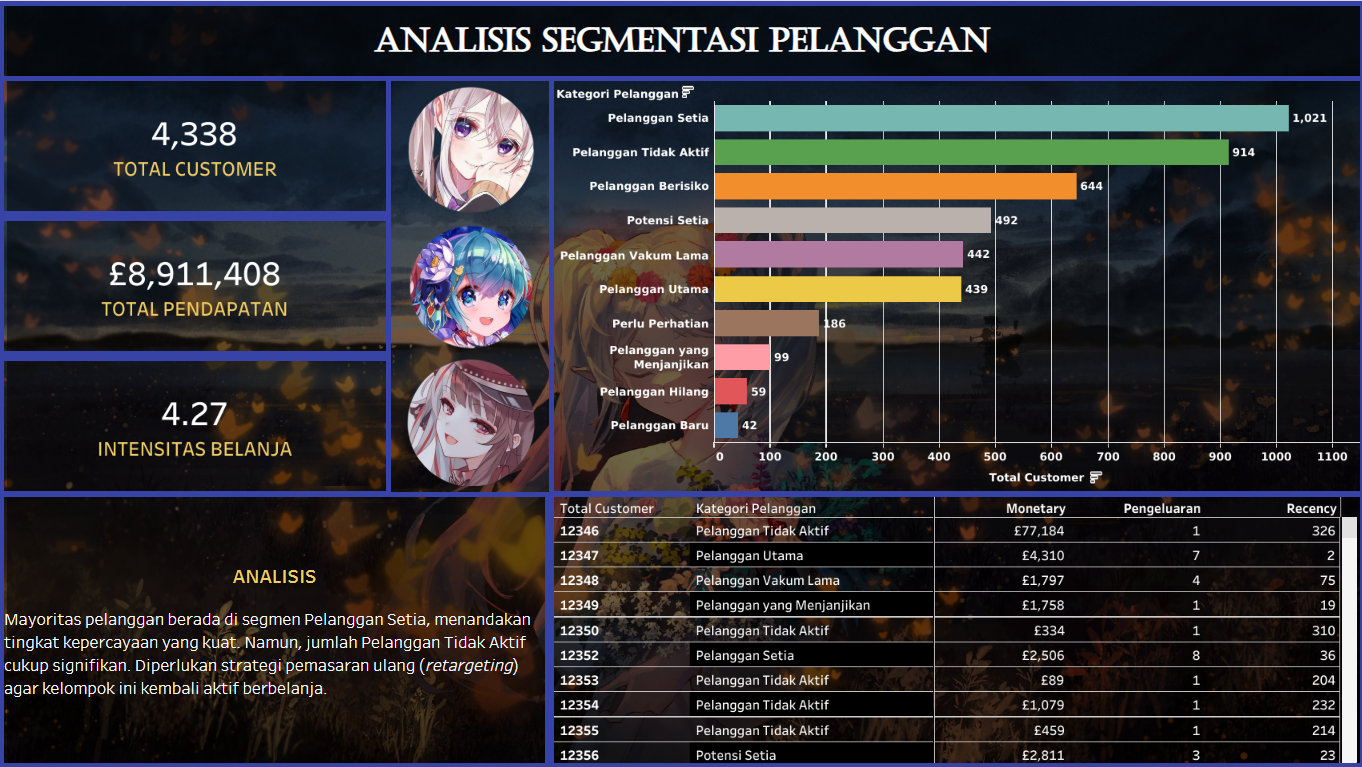

The page's visual inventory and layout, read from the dashboard file:
{"tool":"tableau","page":{"name":"Dashboard 1","canvas":[1366,768],"ordinal":0},"visuals":[{"type":"image","param":"Image/wp13887412-frieren-desktop-hd-4k-wallpapers.jpg","box":[0,0,1366,768]},{"type":"text","box":[0,0,1366,80]},{"type":"blank","box":[8,0,1358,765]},{"type":"title","box":[8,8,1350,62]},{"type":"worksheet","title":"Pelanggan","mark":"Automatic","box":[0,75,392,140]},{"type":"worksheet","title":"Penyebaran Segmen","mark":"Automatic","rows":["Nama_Segmen"],"cols":["CustomerID"],"box":[550,75,816,420]},{"type":"image","param":"Image/__-_̗̀Lunar_̖́-____ೃ_-removebg-preview.png","box":[403,85,138,127]},{"type":"worksheet","title":"Pendapatan","mark":"Automatic","box":[0,215,392,140]},{"type":"image","param":"Image/download-removebg-preview.png","box":[403,222,138,127]},{"type":"worksheet","title":"Rata-Rata Frekuensi","mark":"Automatic","box":[0,355,392,140]},{"type":"image","param":"Image/download__1_-removebg-preview.png","box":[403,358,138,127]},{"type":"text","box":[0,491,551,276]},{"type":"worksheet","title":"Detail Tabel","mark":"Automatic","rows":["CustomerID","Nama_Segmen"],"box":[550,491,816,276]}]}

Visuals, with their boxes in screenshot pixels (x1, y1, x2, y2), scaled from the page's 1366x768 canvas onto the 1362x767 screenshot:
image: [0,0,1361,766]
text: [0,0,1361,80]
blank: [8,0,1361,764]
title: [8,8,1354,70]
"Pelanggan" worksheet: [0,75,391,215]
"Penyebaran Segmen" worksheet: [548,75,1361,494]
image: [402,85,539,212]
"Pendapatan" worksheet: [0,215,391,355]
image: [402,222,539,349]
"Rata-Rata Frekuensi" worksheet: [0,355,391,494]
image: [402,358,539,484]
text: [0,490,549,766]
"Detail Tabel" worksheet: [548,490,1361,766]
